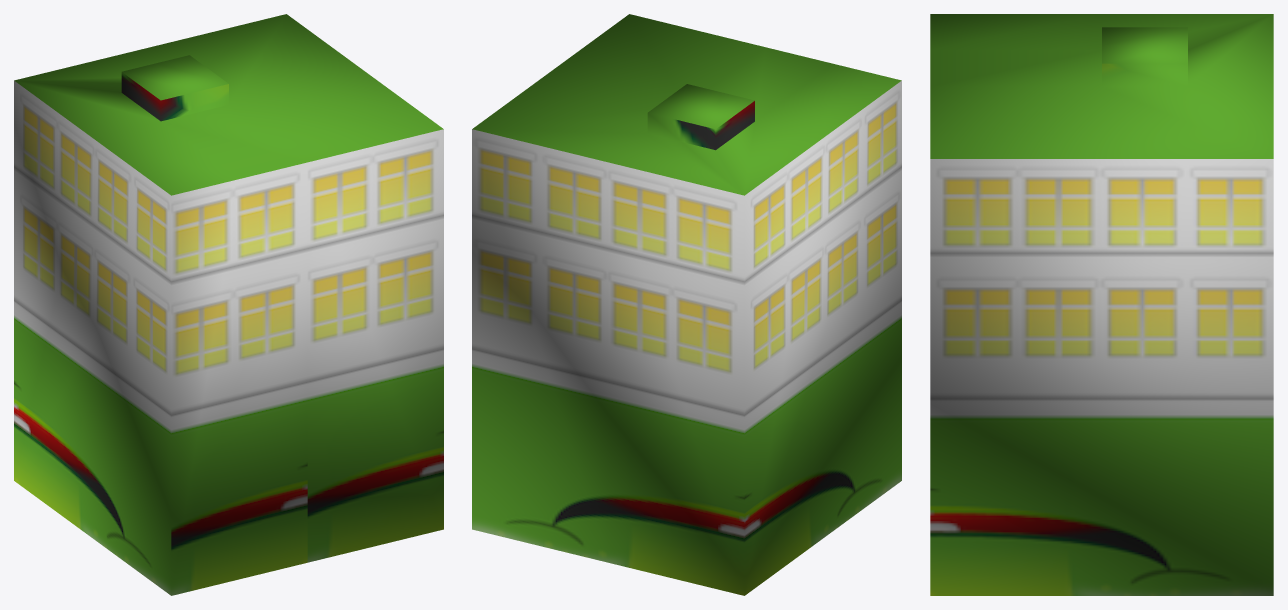
File: turtle-hotel.gltf
The picture shows the model from 3 angles, left to right: view 1: azimuth 30°, elevation 25°; view 2: azimuth 150°, elevation 25°; view 3: azimuth 270°, elevation 25°; orthographic projection. The views are drawn at different scales.
Bounding box in the file's own units: 1.24 × 1.84 × 1.24.
Materials: 1 (1 with a texture image).
